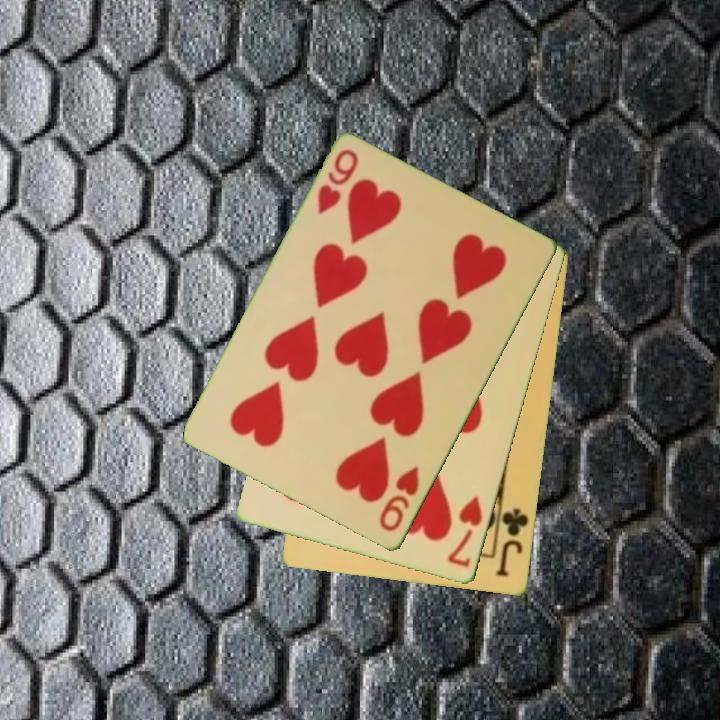7h: (444, 493, 486, 570)
9h: (375, 462, 423, 535), (314, 146, 362, 218)
Jc: (493, 500, 532, 581)
